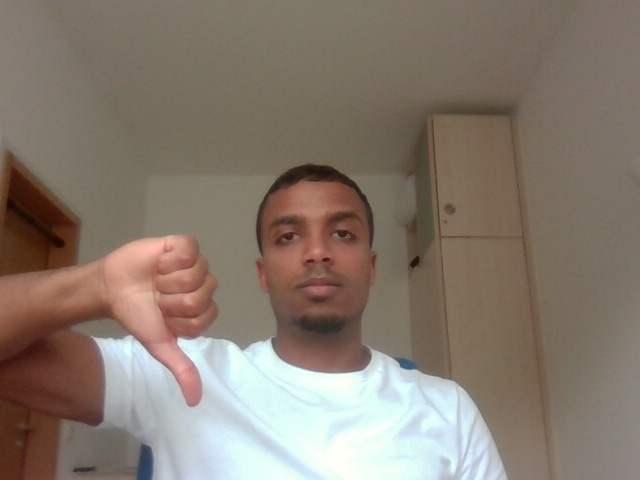no: (91, 203, 220, 428)
